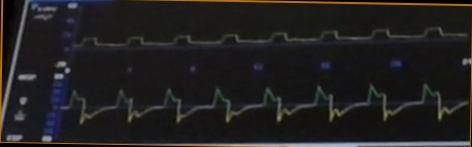Premature_cycling Flow: (64, 79, 469, 135)
